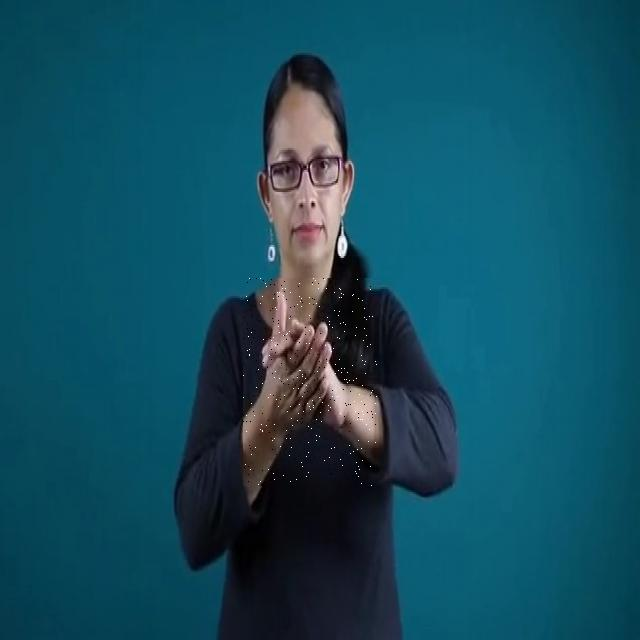burger: (244, 278, 378, 486)
